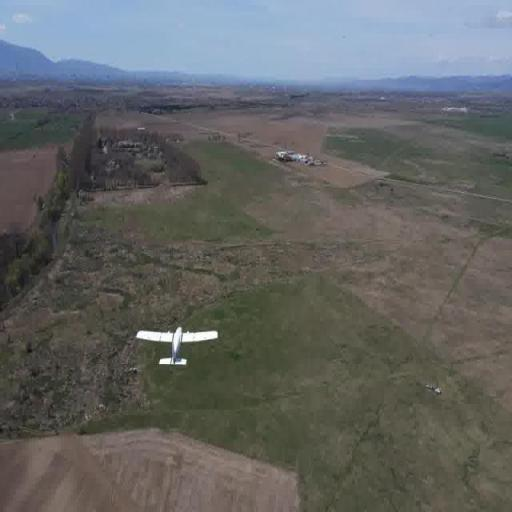uav: (136, 317, 221, 375)
